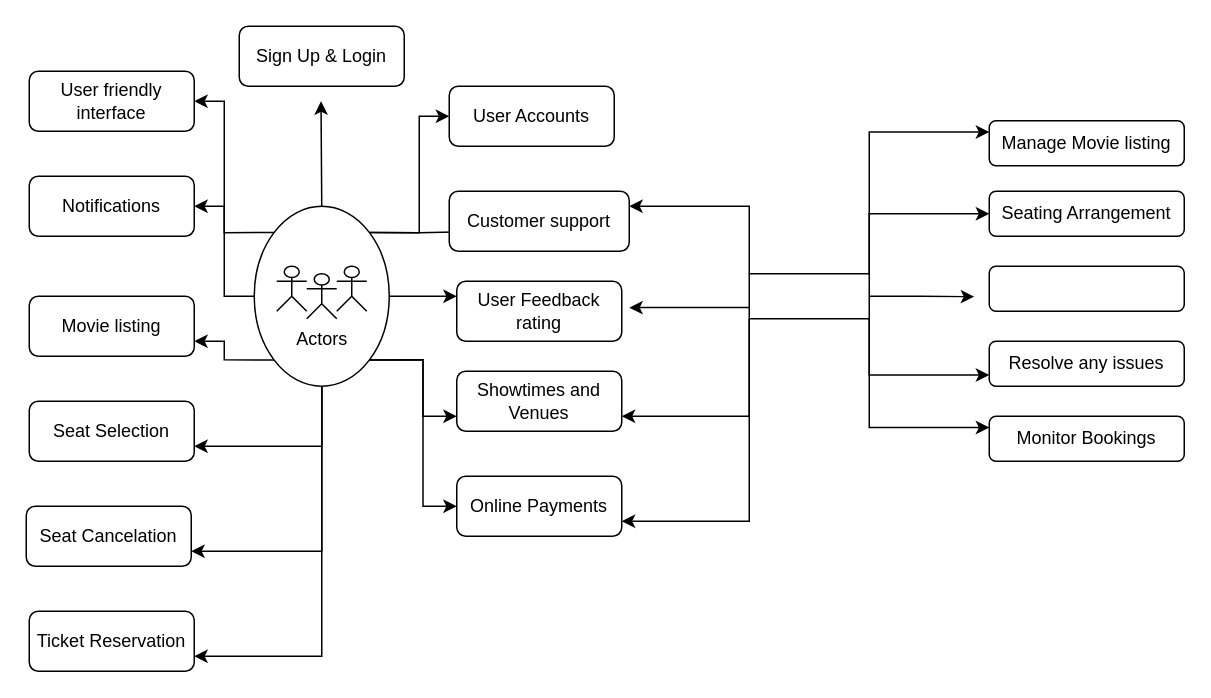
The diagram is 1211 pixels wide and 698 high, and some of its shapes have lost their labels. The centre of each missing label's shape, as x and y in pixels:
"Admin Panel" belongs at [808,295].
"Handle Refunds" belongs at [1086,288].
